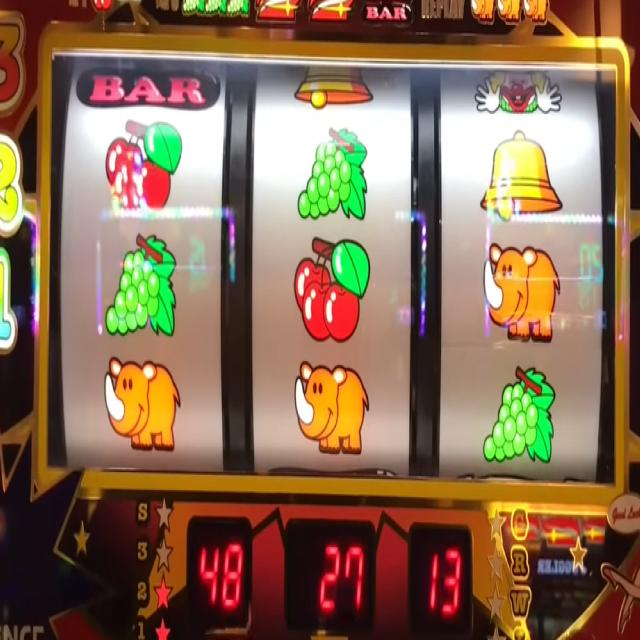bar: (73, 64, 224, 114), (364, 1, 414, 27)
bell: (474, 127, 564, 224), (292, 60, 374, 106)
cherry: (291, 235, 374, 343), (103, 116, 184, 219)
clown: (470, 63, 566, 119)
display: (50, 47, 618, 486)
elephant: (484, 239, 560, 346), (104, 351, 180, 455), (294, 354, 368, 460), (522, 0, 551, 26), (496, 0, 522, 26), (468, 0, 496, 23)
grape: (482, 360, 555, 474), (295, 117, 372, 225), (104, 228, 177, 340), (226, 0, 250, 20), (204, 0, 228, 17), (184, 0, 204, 19)
z: (254, 0, 300, 29), (308, 0, 352, 29)
